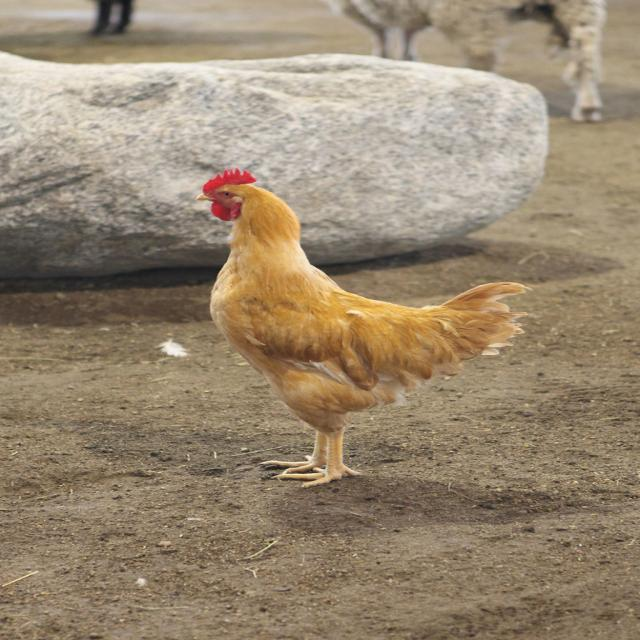Chicken: (197, 167, 535, 484)
